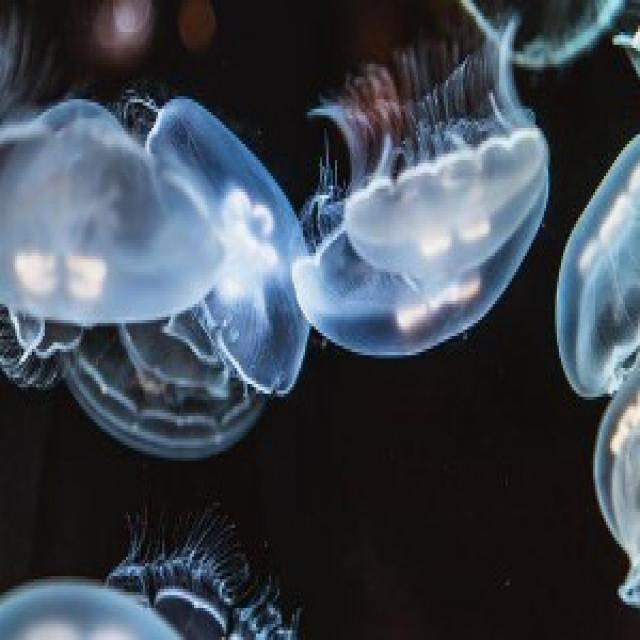Jellyfish: (285, 59, 564, 364), (0, 94, 218, 450), (165, 86, 307, 385), (561, 134, 640, 400)
